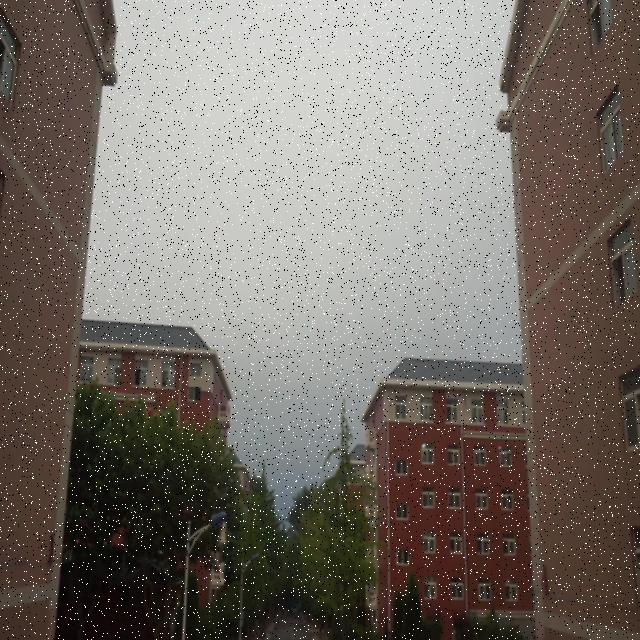UAV: (144, 403, 156, 417)
